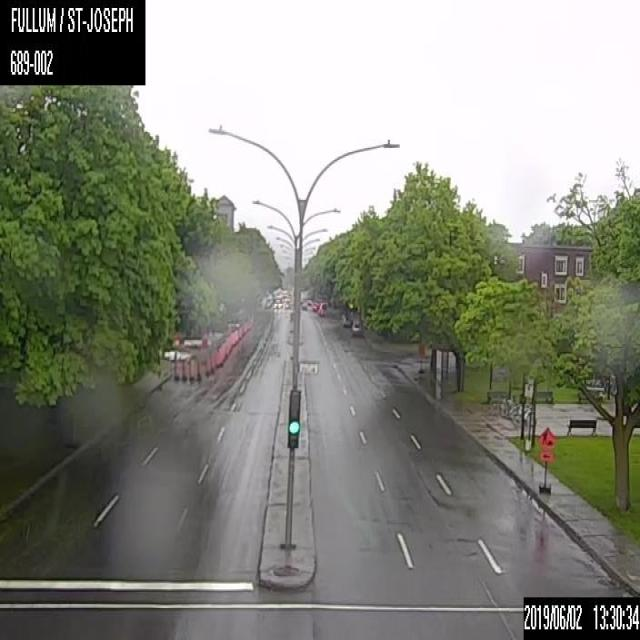construction: (537, 427, 554, 492), (180, 359, 187, 380), (173, 357, 179, 380), (188, 358, 194, 380), (195, 359, 201, 380), (204, 357, 210, 375), (210, 353, 214, 372)
vehicle: (351, 317, 363, 335), (273, 298, 281, 308), (283, 297, 290, 308)
